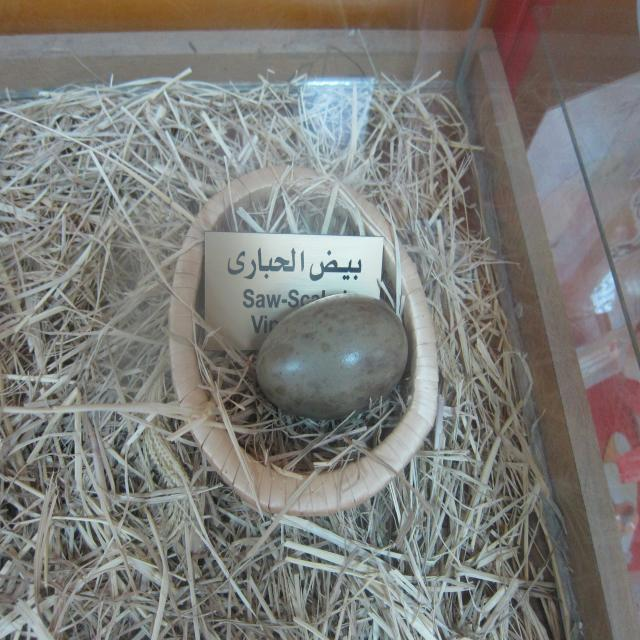Snake: (168, 162, 440, 517)
